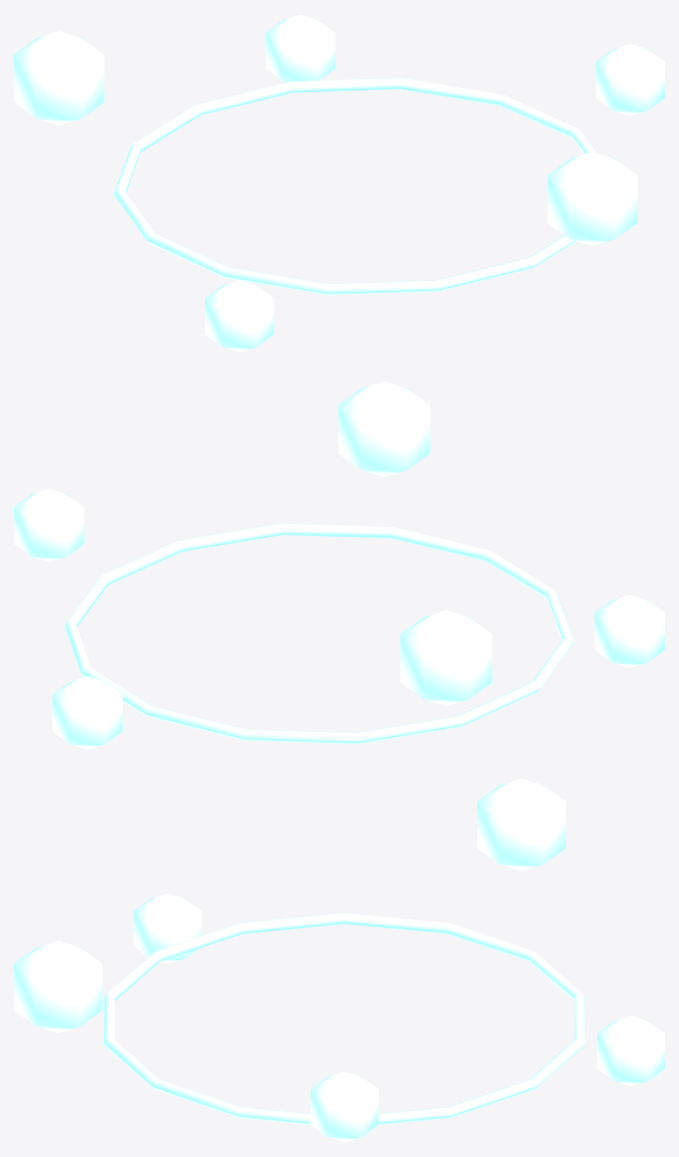
The model's file is npc_wisp_motes.glb.
The picture shows the model from 3 angles, top to bottom: view 1: azimuth 30°, elevation 25°; view 2: azimuth 150°, elevation 25°; view 3: azimuth 270°, elevation 25°; orthographic projection. The views are drawn at different scales.
Visible parts, largest first — view 1: part.npc_wisp_motes; view 2: part.npc_wisp_motes; view 3: part.npc_wisp_motes.
Boxes of the visible parts, left/top/right/bottom form: part.npc_wisp_motes: left=14, top=14, right=664, bottom=352; part.npc_wisp_motes: left=14, top=381, right=664, bottom=749; part.npc_wisp_motes: left=14, top=778, right=664, bottom=1142.
Size of the model in its own units: 0.4068 by 0.1361 by 0.4324.
